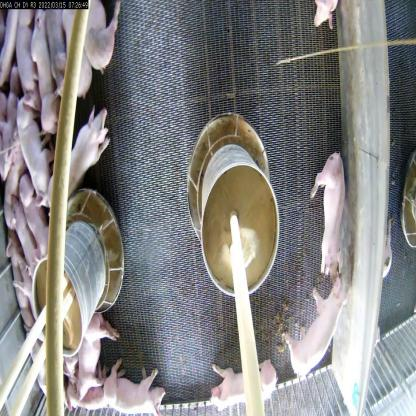Pig: (43, 104, 111, 211), (278, 280, 350, 377), (203, 355, 284, 410), (311, 147, 345, 277), (98, 356, 167, 416), (70, 317, 118, 399), (11, 90, 46, 194), (15, 172, 50, 263), (0, 232, 32, 329), (7, 203, 43, 276)
